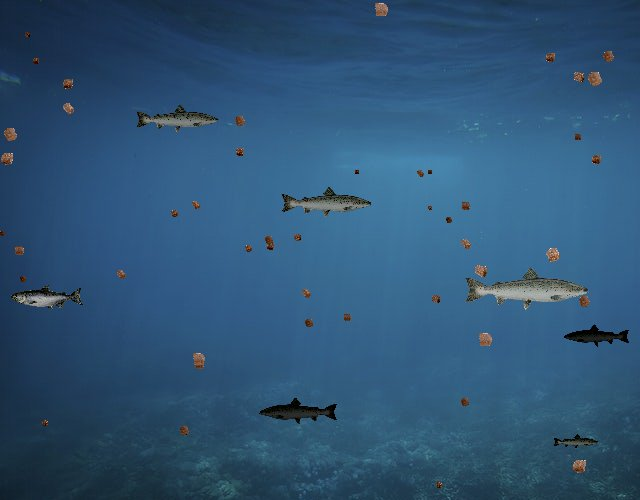Fish: (462, 265, 591, 311), (279, 185, 373, 219), (134, 103, 220, 134), (258, 396, 339, 425), (12, 285, 85, 311), (563, 324, 631, 348), (552, 434, 599, 451)
Pellet: (565, 452, 593, 480), (467, 258, 494, 285), (56, 96, 81, 121), (455, 392, 474, 411), (432, 478, 446, 492), (38, 416, 52, 430), (21, 28, 33, 40)
